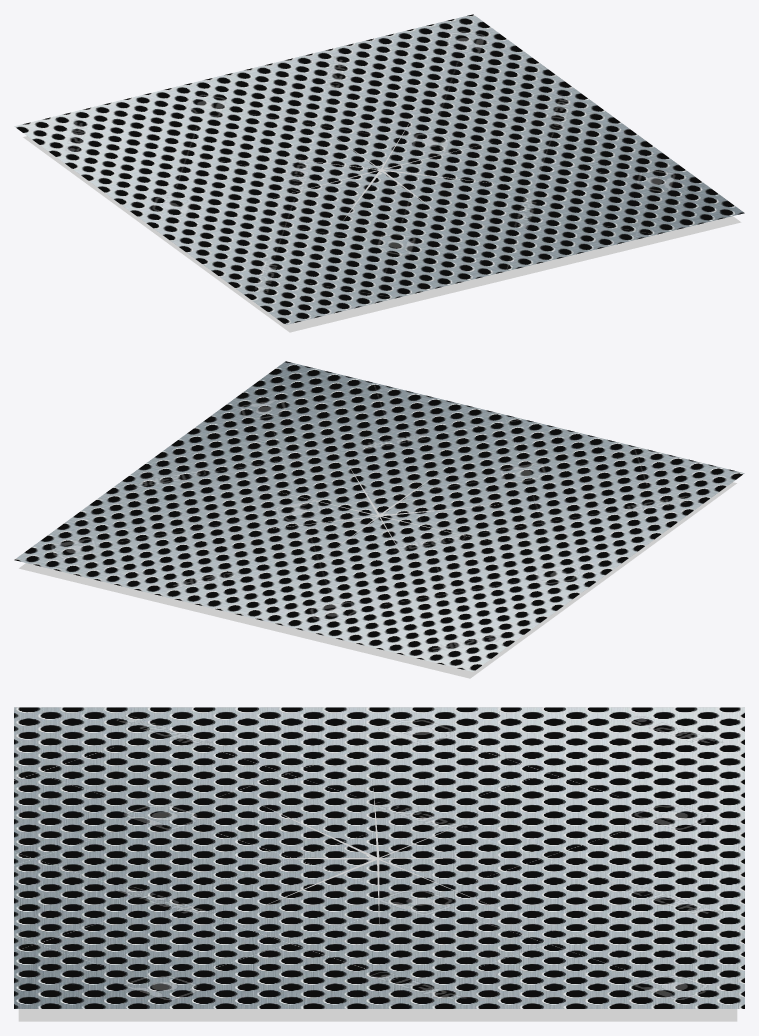
File: hole in wall 2.FBX
3 views of the same model, one above another, from view 1: azimuth 30°, elevation 25°; view 2: azimuth 150°, elevation 25°; view 3: azimuth 270°, elevation 25° (orthographic). The views are drawn at different scales.
Visible parts, largest first — view 1: Plane001, Plane002; view 2: Plane001, Plane002; view 3: Plane001, Plane002.
Part boxes in pixels (x1,y1,x2,y2): Plane001: [14, 14, 744, 324]; Plane002: [23, 118, 741, 332]; Plane001: [14, 361, 744, 671]; Plane002: [19, 466, 736, 678]; Plane001: [14, 707, 744, 1008]; Plane002: [18, 784, 737, 1021].
Size of the model in its own units: 19.68 by 0.4147 by 20.17.
